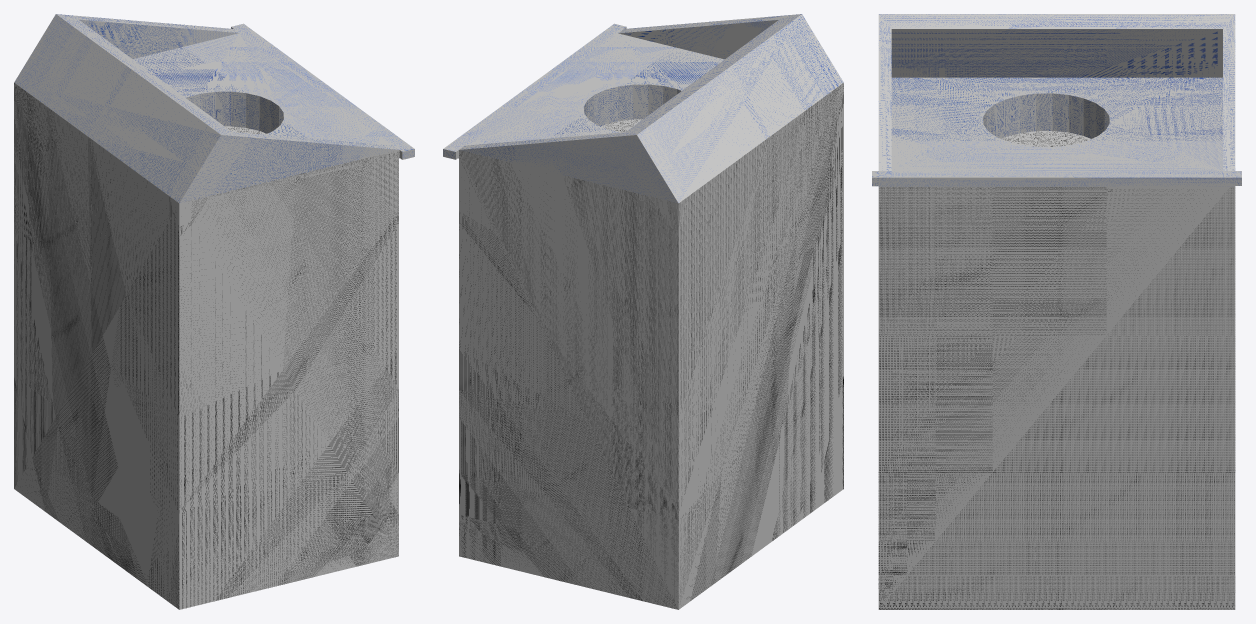
The picture shows the model from 3 angles, left to right: view 1: azimuth 30°, elevation 25°; view 2: azimuth 150°, elevation 25°; view 3: azimuth 270°, elevation 25°; orthographic projection. The views are drawn at different scales.
Visible parts, largest first — view 1: mesh1_mesh1-geometry; view 2: mesh1_mesh1-geometry; view 3: mesh1_mesh1-geometry.
Part boxes in pixels (bbox=[...]): mesh1_mesh1-geometry: bbox=[14, 14, 414, 609]; mesh1_mesh1-geometry: bbox=[443, 14, 843, 609]; mesh1_mesh1-geometry: bbox=[872, 14, 1241, 609].
Bounding box in the file's own units: 0.3992 × 0.7626 × 0.5089.
